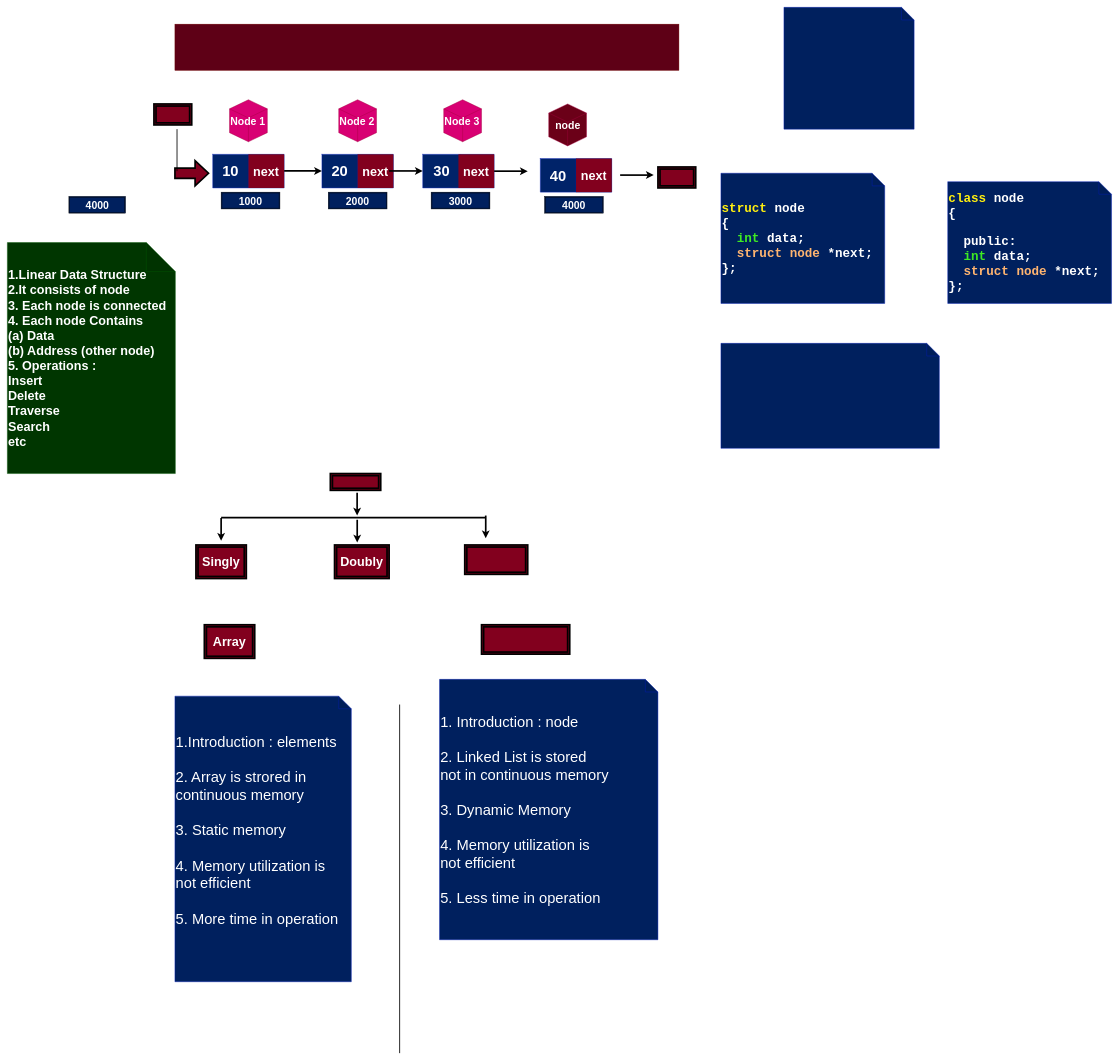
The diagram is 1119 pixels wide and 1061 high, and some of its shapes have lost their labels. The centre of each missing label's shape, as x and y in pixels:
"Circular" goes at (x=496, y=559).
"Class Struct Without Method Create Method Void , Return" goes at (x=849, y=68).
"Data Structure | Linked List Operation | Insert at the End" goes at (x=427, y=47).
"First node Pointer,Reference is enough to access the whole linked List data." goes at (x=830, y=395).
"Head" goes at (x=172, y=114).
"Linked List" goes at (x=525, y=639).
"NULL" goes at (x=676, y=177).
"Types" goes at (x=355, y=481).
